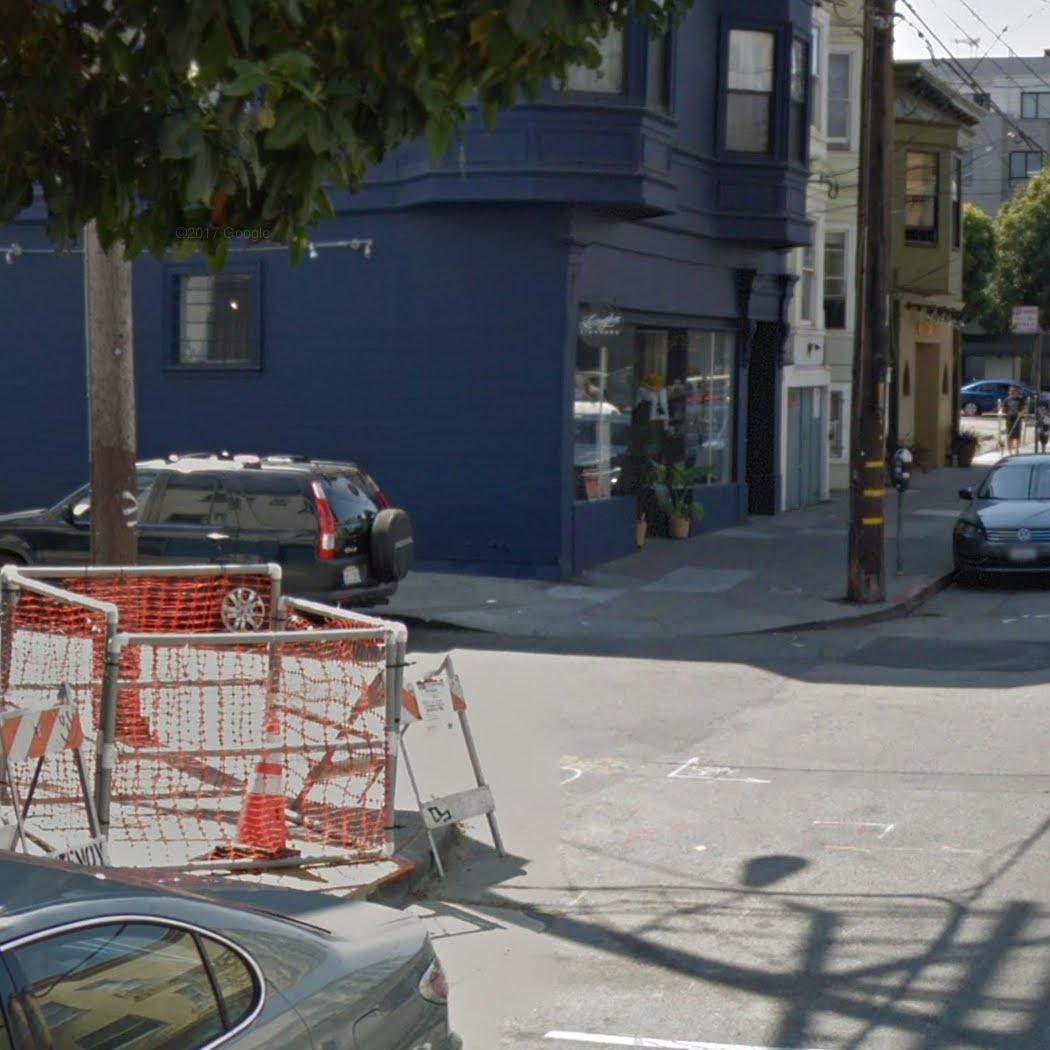No Parking: (1009, 304, 1040, 336)
